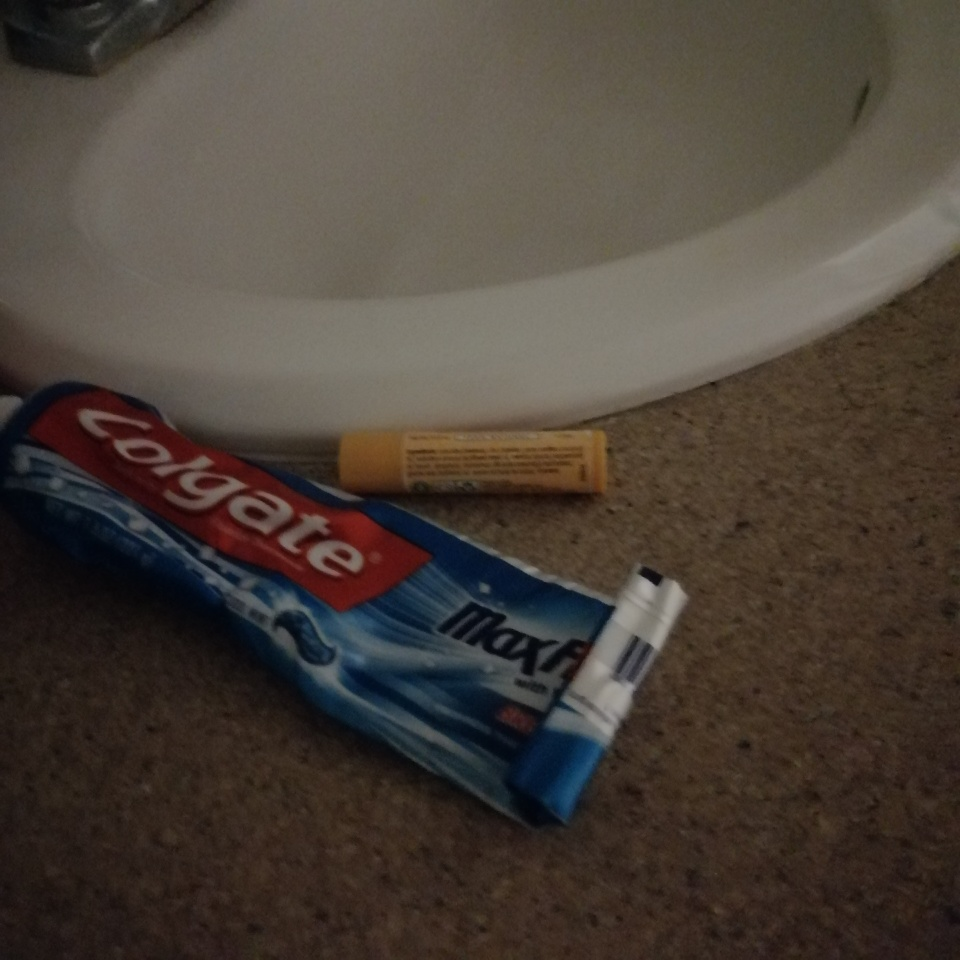chapstick: (336, 428, 612, 496)
